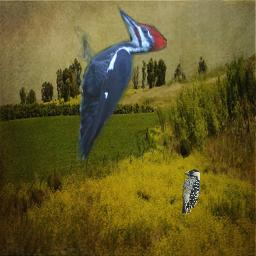Woodpecker: (74, 3, 167, 167), (182, 169, 200, 215)
